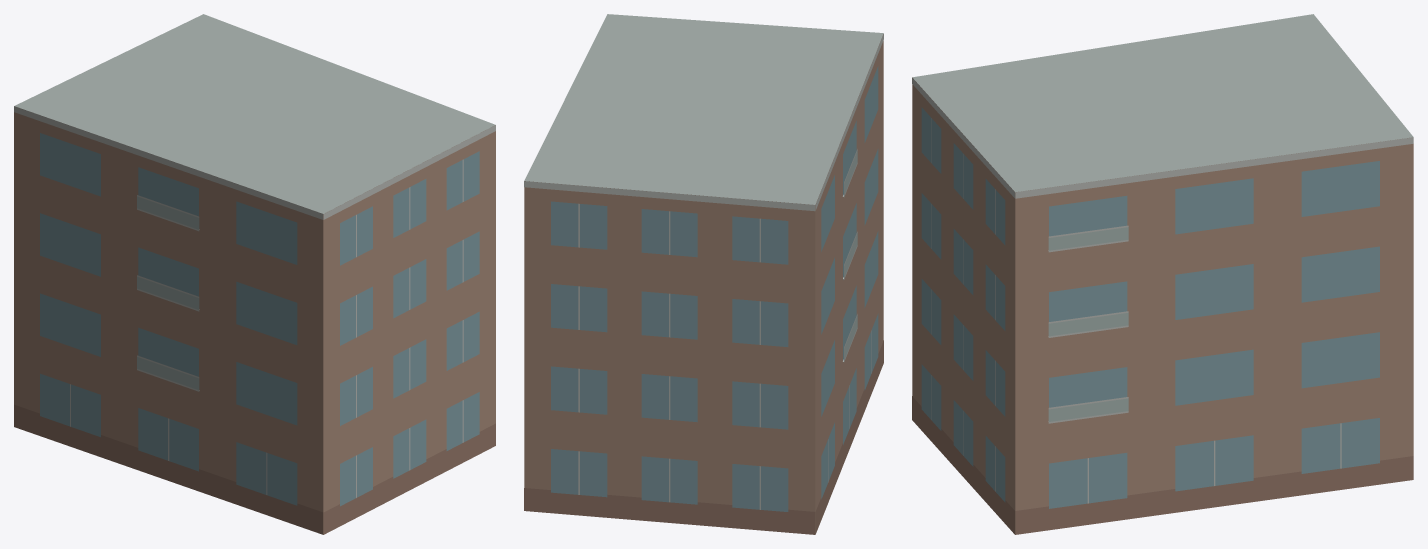
Rendered from survey-upis-32866022.glb.
3 views of the same model, side by side, from view 1: azimuth 30°, elevation 25°; view 2: azimuth 150°, elevation 25°; view 3: azimuth 270°, elevation 25° (orthographic). The views are drawn at different scales.
Parts seen in each view (by area): view 1: survey-upis-32866022.tmp; view 2: survey-upis-32866022.tmp; view 3: survey-upis-32866022.tmp.
Part boxes in pixels (x1=…): survey-upis-32866022.tmp: x1=14, y1=14, x2=495, y2=534; survey-upis-32866022.tmp: x1=524, y1=14, x2=883, y2=534; survey-upis-32866022.tmp: x1=912, y1=14, x2=1413, y2=534.
Bounding box in the file's own units: 14.29 × 12.8 × 16.99.
